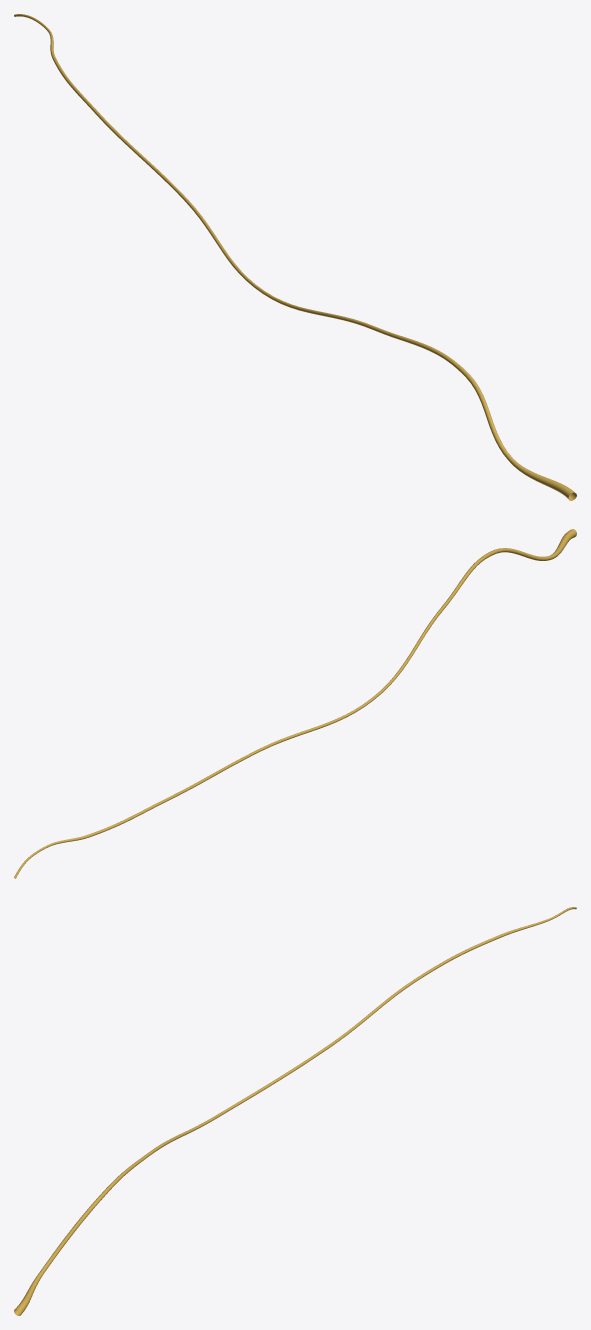
3 views of the same model, one above another, from view 1: azimuth 30°, elevation 25°; view 2: azimuth 150°, elevation 25°; view 3: azimuth 330°, elevation 25° (orthographic). The views are drawn at different scales.
Parts seen in each view (by area): view 1: 右侧胫神经; view 2: 右侧胫神经; view 3: 右侧胫神经.
Part boxes in pixels (<box>): 右侧胫神经: <box>14,14,576,500</box>; 右侧胫神经: <box>14,529,576,878</box>; 右侧胫神经: <box>14,907,576,1315</box>.
Size of the model in its own units: 0.0586 by 0.0413 by 0.7116.
